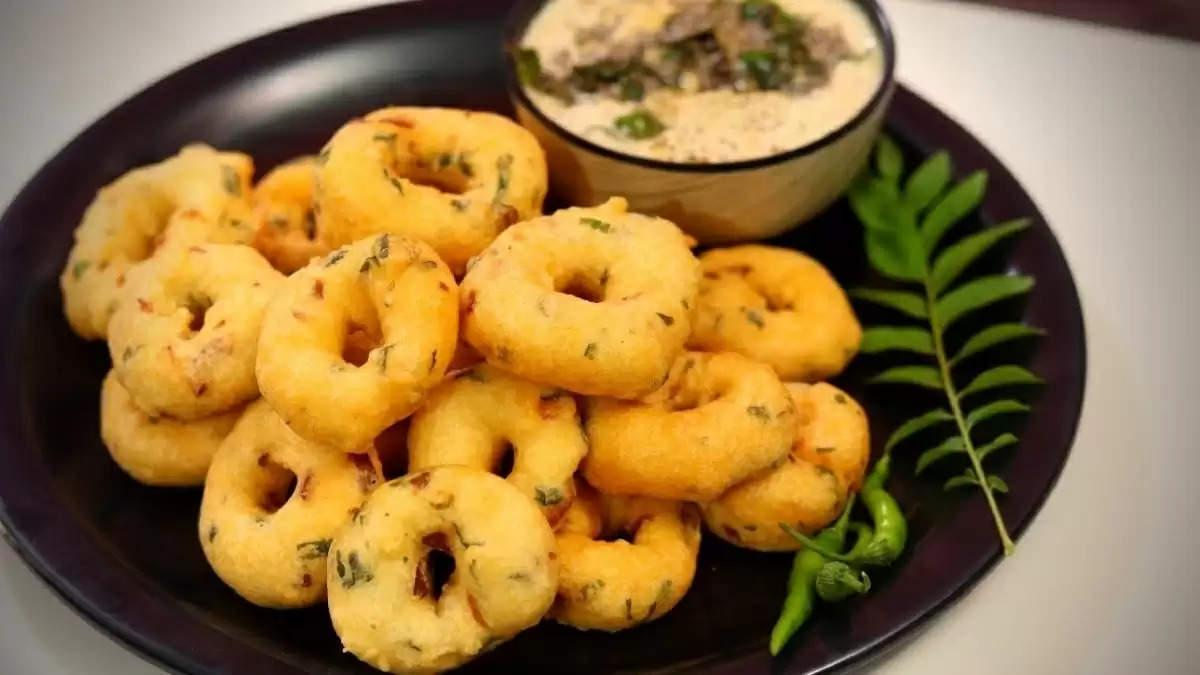mvada: (209, 195, 644, 529)
